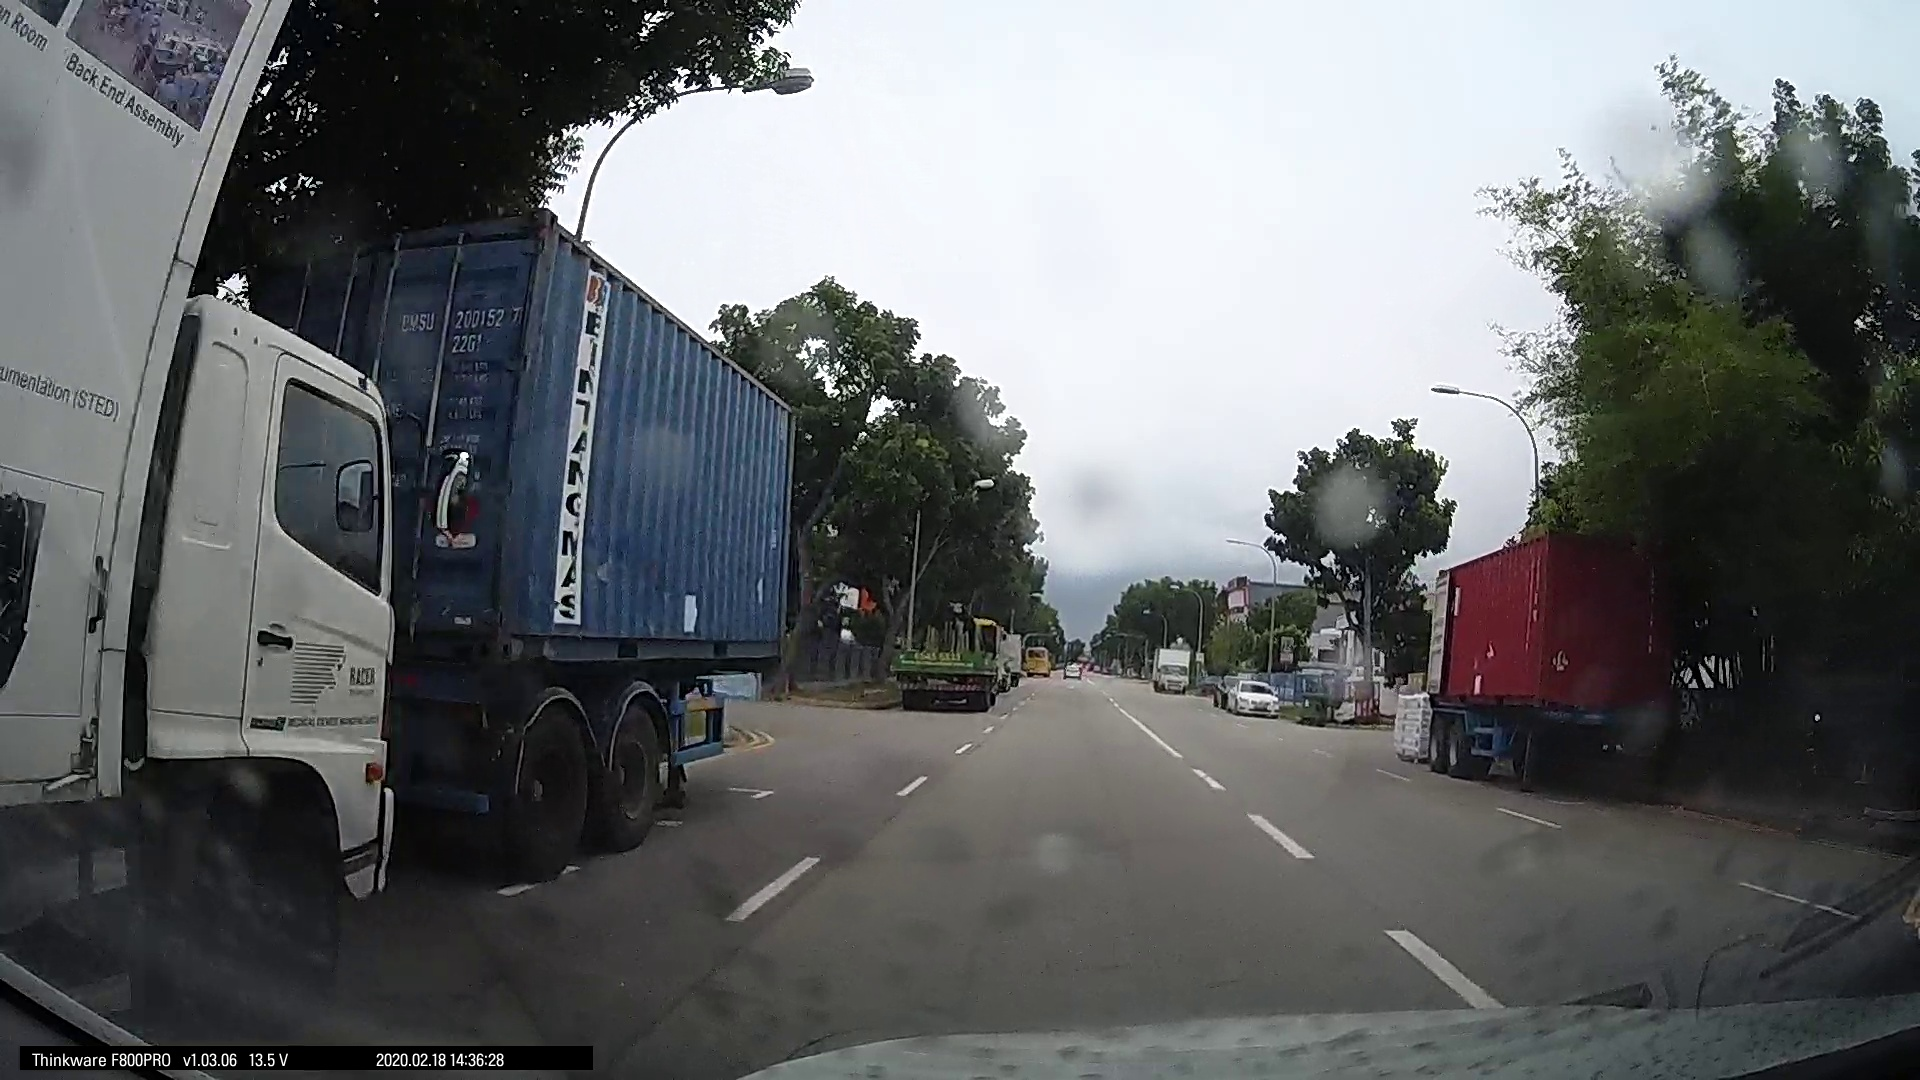Heavy Vehicle: (4, 1, 394, 1001), (331, 195, 777, 872), (1407, 520, 1687, 775)
Light Vehicle: (1218, 670, 1280, 717), (1146, 645, 1192, 694)
